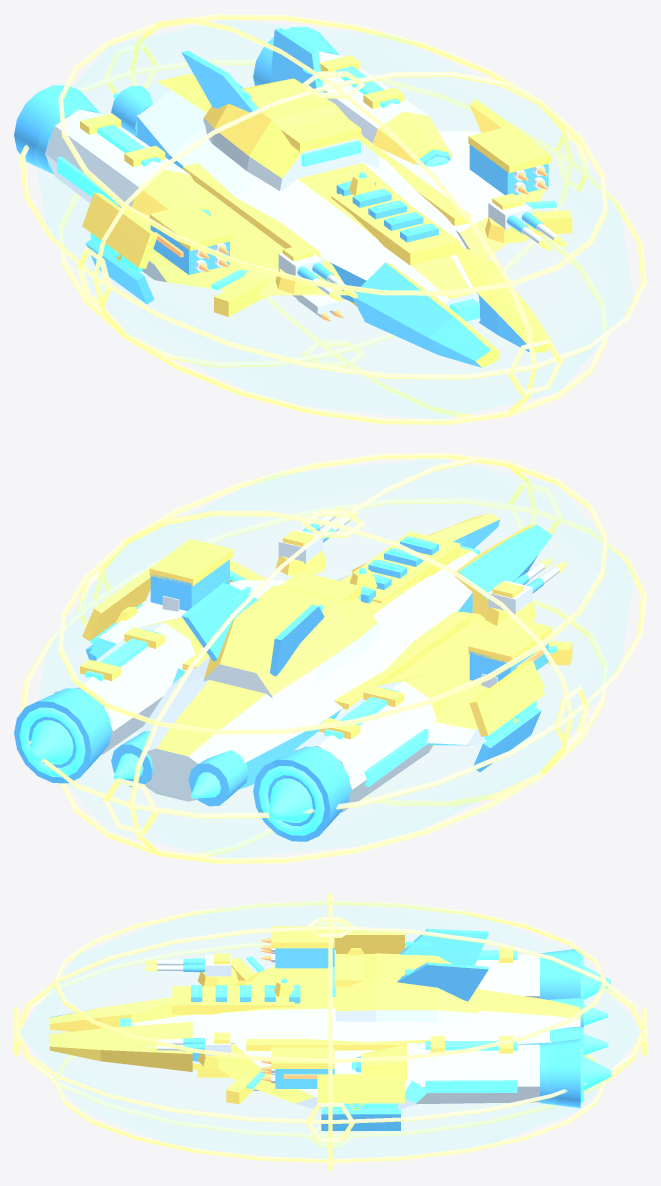
File: horizon_tachyon_cruiser.glb
3 renders of one model, top to bottom at view 1: azimuth 30°, elevation 25°; view 2: azimuth 150°, elevation 25°; view 3: azimuth 270°, elevation 25°, orthographic. The views are drawn at different scales.
Parts seen in each view (by area): view 1: Cruiser_Reinforced_Particle_Shield, Cruiser_Reinforced_Hull_Core, Cruiser_Particle_Shield_HexReinforcement, Cruiser_Cyan_Engine_Nacelles, Cruiser_Forward_Swept_Wings_And_Armor, Cruiser_Command_Bridge_And_Spine, Cruiser_Missile_Mounts, Cruiser_Laser_Mounts; view 2: Cruiser_Reinforced_Particle_Shield, Cruiser_Cyan_Engine_Nacelles, Cruiser_Particle_Shield_HexReinforcement, Cruiser_Reinforced_Hull_Core, Cruiser_Command_Bridge_And_Spine, Cruiser_Forward_Swept_Wings_And_Armor, Cruiser_Missile_Mounts, Cruiser_Laser_Mounts, Cruiser_Shield_Projectors; view 3: Cruiser_Reinforced_Particle_Shield, Cruiser_Reinforced_Hull_Core, Cruiser_Particle_Shield_HexReinforcement, Cruiser_Cyan_Engine_Nacelles, Cruiser_Command_Bridge_And_Spine, Cruiser_Forward_Swept_Wings_And_Armor, Cruiser_Missile_Mounts, Cruiser_Laser_Mounts, Cruiser_Shield_Projectors.
Part boxes in pixels (<box>): Cruiser_Reinforced_Particle_Shield: <box>35,20,632,418</box>; Cruiser_Reinforced_Hull_Core: <box>135,74,552,367</box>; Cruiser_Particle_Shield_HexReinforcement: <box>19,14,646,424</box>; Cruiser_Cyan_Engine_Nacelles: <box>14,26,451,216</box>; Cruiser_Forward_Swept_Wings_And_Armor: <box>82,99,572,316</box>; Cruiser_Command_Bridge_And_Spine: <box>181,28,438,242</box>; Cruiser_Missile_Mounts: <box>149,125,552,321</box>; Cruiser_Laser_Mounts: <box>275,193,566,301</box>; Cruiser_Reinforced_Particle_Shield: <box>39,459,632,857</box>; Cruiser_Cyan_Engine_Nacelles: <box>14,617,450,841</box>; Cruiser_Particle_Shield_HexReinforcement: <box>20,453,646,863</box>; Cruiser_Reinforced_Hull_Core: <box>138,513,552,801</box>; Cruiser_Command_Bridge_And_Spine: <box>181,536,438,698</box>; Cruiser_Forward_Swept_Wings_And_Armor: <box>82,559,572,772</box>; Cruiser_Missile_Mounts: <box>149,539,552,687</box>; Cruiser_Laser_Mounts: <box>275,507,566,625</box>; Cruiser_Shield_Projectors: <box>116,568,520,723</box>; Cruiser_Reinforced_Particle_Shield: <box>20,902,640,1158</box>; Cruiser_Reinforced_Hull_Core: <box>49,982,580,1077</box>; Cruiser_Particle_Shield_HexReinforcement: <box>14,892,646,1171</box>; Cruiser_Cyan_Engine_Nacelles: <box>352,945,611,1108</box>; Cruiser_Command_Bridge_And_Spine: <box>191,928,488,1022</box>; Cruiser_Forward_Swept_Wings_And_Armor: <box>220,930,428,1130</box>; Cruiser_Missile_Mounts: <box>253,926,335,1090</box>; Cruiser_Laser_Mounts: <box>144,953,238,1069</box>; Cruiser_Shield_Projectors: <box>274,948,364,1109</box>.
Size of the model in its own units: 4.24 by 2.31 by 6.2.
